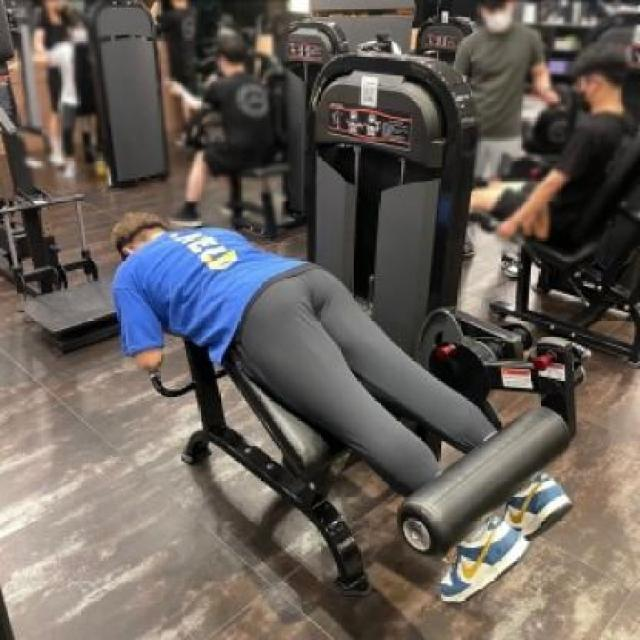reg curl machine: (103, 41, 592, 617)
